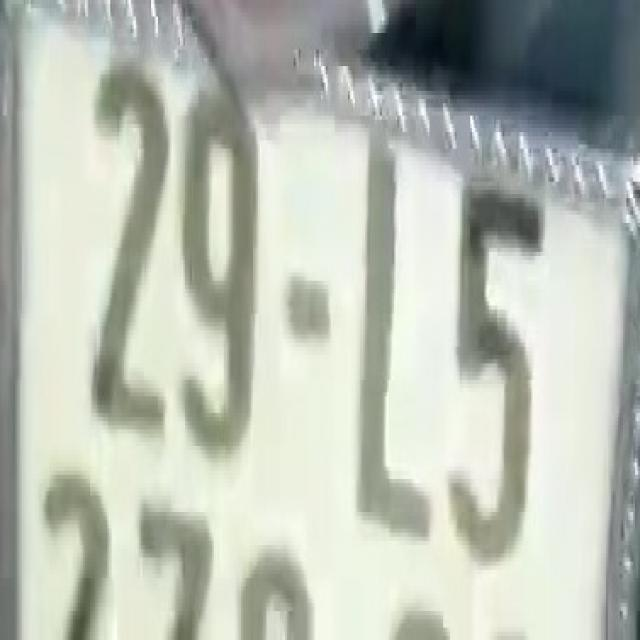2: (85, 50, 171, 438)
5: (446, 170, 546, 570)
9: (176, 62, 265, 462)
L: (339, 123, 436, 550)
